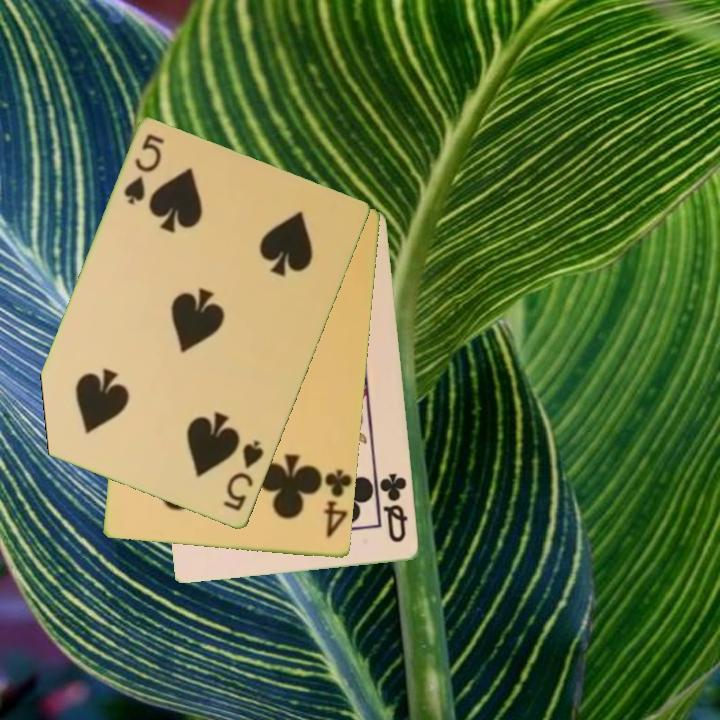4c: (321, 466, 353, 542)
5s: (220, 437, 268, 515), (120, 131, 168, 208)
Qc: (376, 470, 411, 546)
